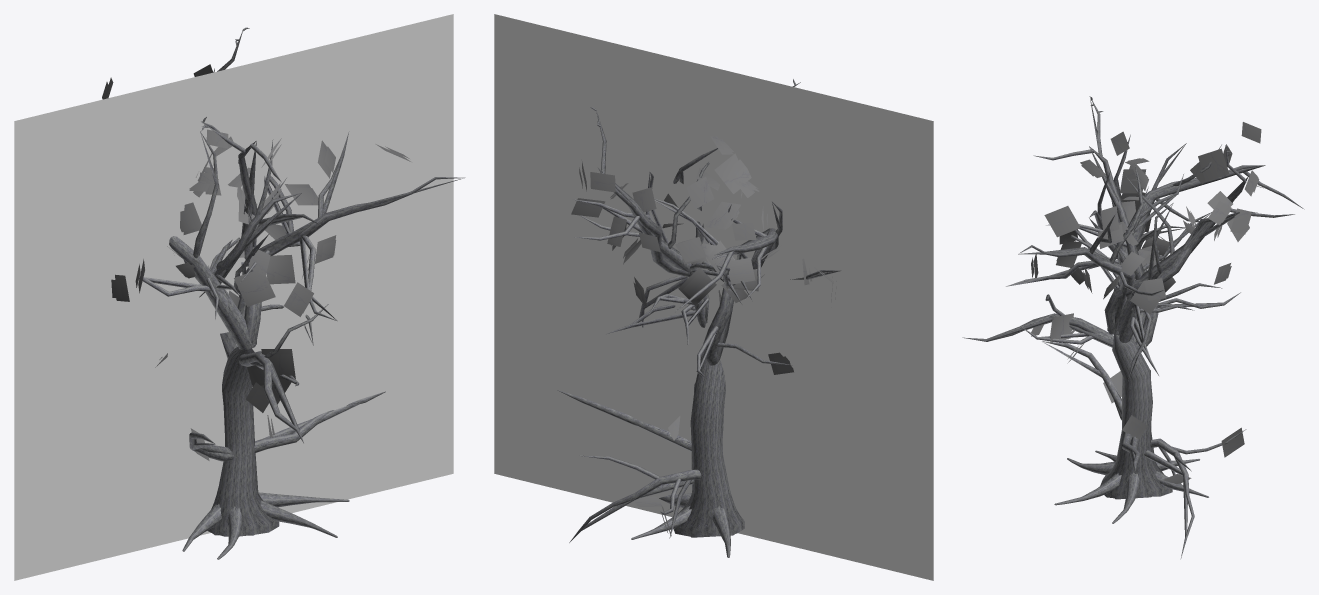
Rendered from corrompu_vieux_a.fbx.
3 views of the same model, side by side, from view 1: azimuth 30°, elevation 25°; view 2: azimuth 150°, elevation 25°; view 3: azimuth 270°, elevation 25° (orthographic). The views are drawn at different scales.
Visible parts, largest first — view 1: corrompu_vieux_a_LOD3, corrompu_vieux_a_LOD1, corrompu_vieux_a_LOD2; view 2: corrompu_vieux_a_LOD3, corrompu_vieux_a_LOD1, corrompu_vieux_a_LOD2; view 3: corrompu_vieux_a_LOD1, corrompu_vieux_a_LOD2.
Boxes of the visible parts, x1,y1,x2,y2 form: corrompu_vieux_a_LOD3: (14, 14, 453, 580); corrompu_vieux_a_LOD1: (102, 27, 465, 559); corrompu_vieux_a_LOD2: (104, 27, 464, 559); corrompu_vieux_a_LOD3: (494, 14, 933, 580); corrompu_vieux_a_LOD1: (557, 79, 840, 557); corrompu_vieux_a_LOD2: (570, 80, 840, 557); corrompu_vieux_a_LOD1: (962, 96, 1304, 557); corrompu_vieux_a_LOD2: (967, 96, 1265, 550).
Size of what is drawn, in the model's own units: 21.03 by 22.17 by 16.9.
